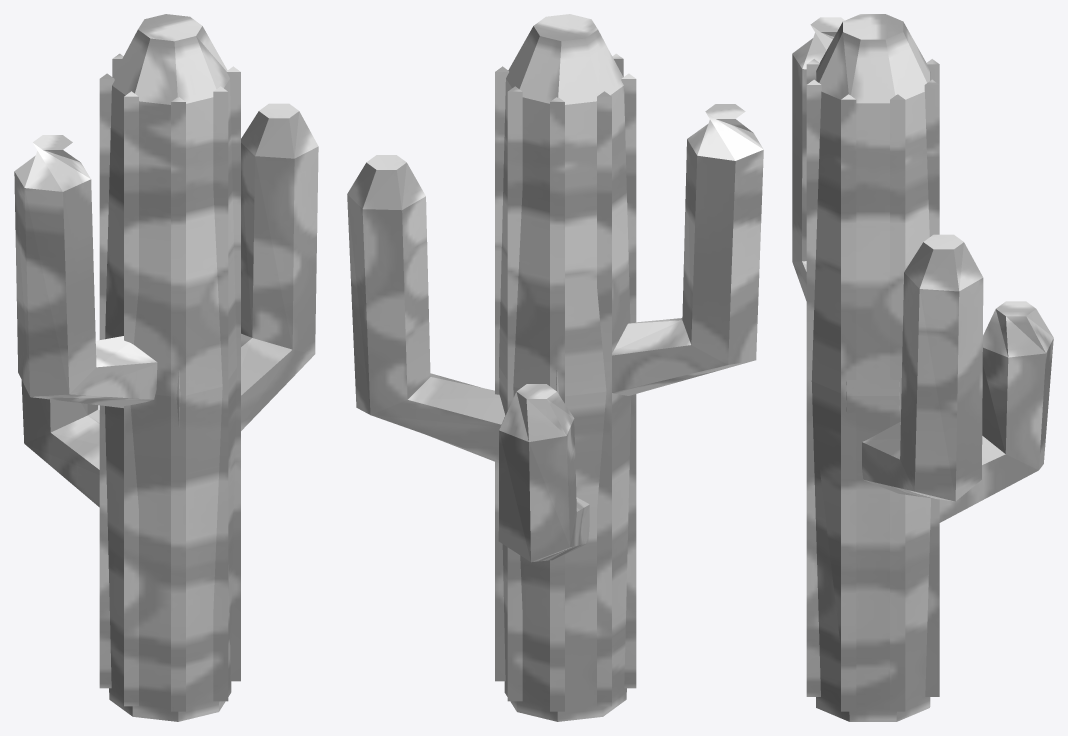
Rendered from tree_cactus.obj.
3 renders of one model, left to right at view 1: azimuth 30°, elevation 25°; view 2: azimuth 150°, elevation 25°; view 3: azimuth 270°, elevation 25°, orthographic.
Parts seen in each view (by area): view 1: tree_cactus; view 2: tree_cactus; view 3: tree_cactus.
Boxes of the visible parts, bbox=[...] form: tree_cactus: bbox=[14, 14, 318, 721]; tree_cactus: bbox=[347, 14, 763, 721]; tree_cactus: bbox=[792, 14, 1053, 721].
Bounding box in the file's own units: 0.5549 × 1.02 × 0.3603.
